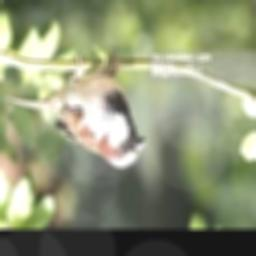Sparrow: (9, 49, 146, 168)
